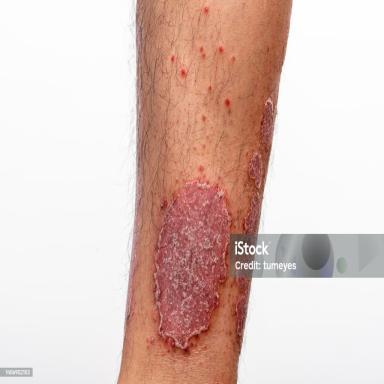Psoriasis: (155, 161, 231, 354), (244, 98, 275, 234), (235, 278, 251, 365), (245, 191, 261, 233), (180, 66, 188, 78), (203, 3, 210, 15), (199, 46, 205, 58), (224, 98, 230, 107), (218, 45, 224, 52), (171, 55, 175, 63), (208, 85, 212, 92), (232, 55, 235, 62), (203, 115, 206, 120)
